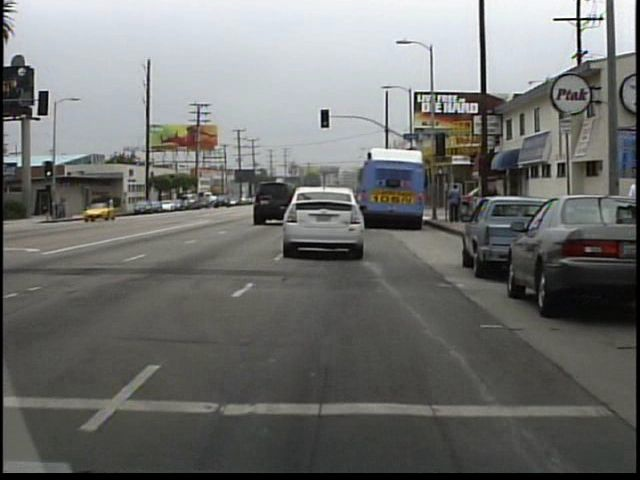person: (444, 182, 463, 225), (107, 193, 121, 217)
